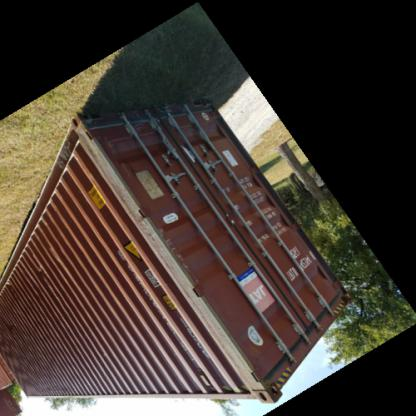Damage: (157, 223, 193, 274), (110, 138, 138, 180), (32, 262, 52, 287), (2, 322, 18, 344), (7, 284, 21, 304)
